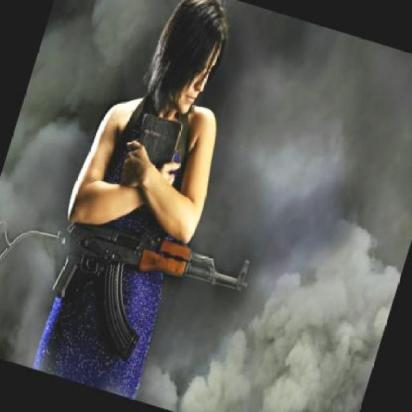Gun: (47, 224, 255, 346)
